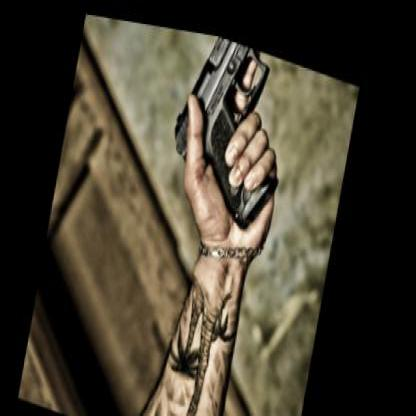pistol: (160, 23, 296, 235)
